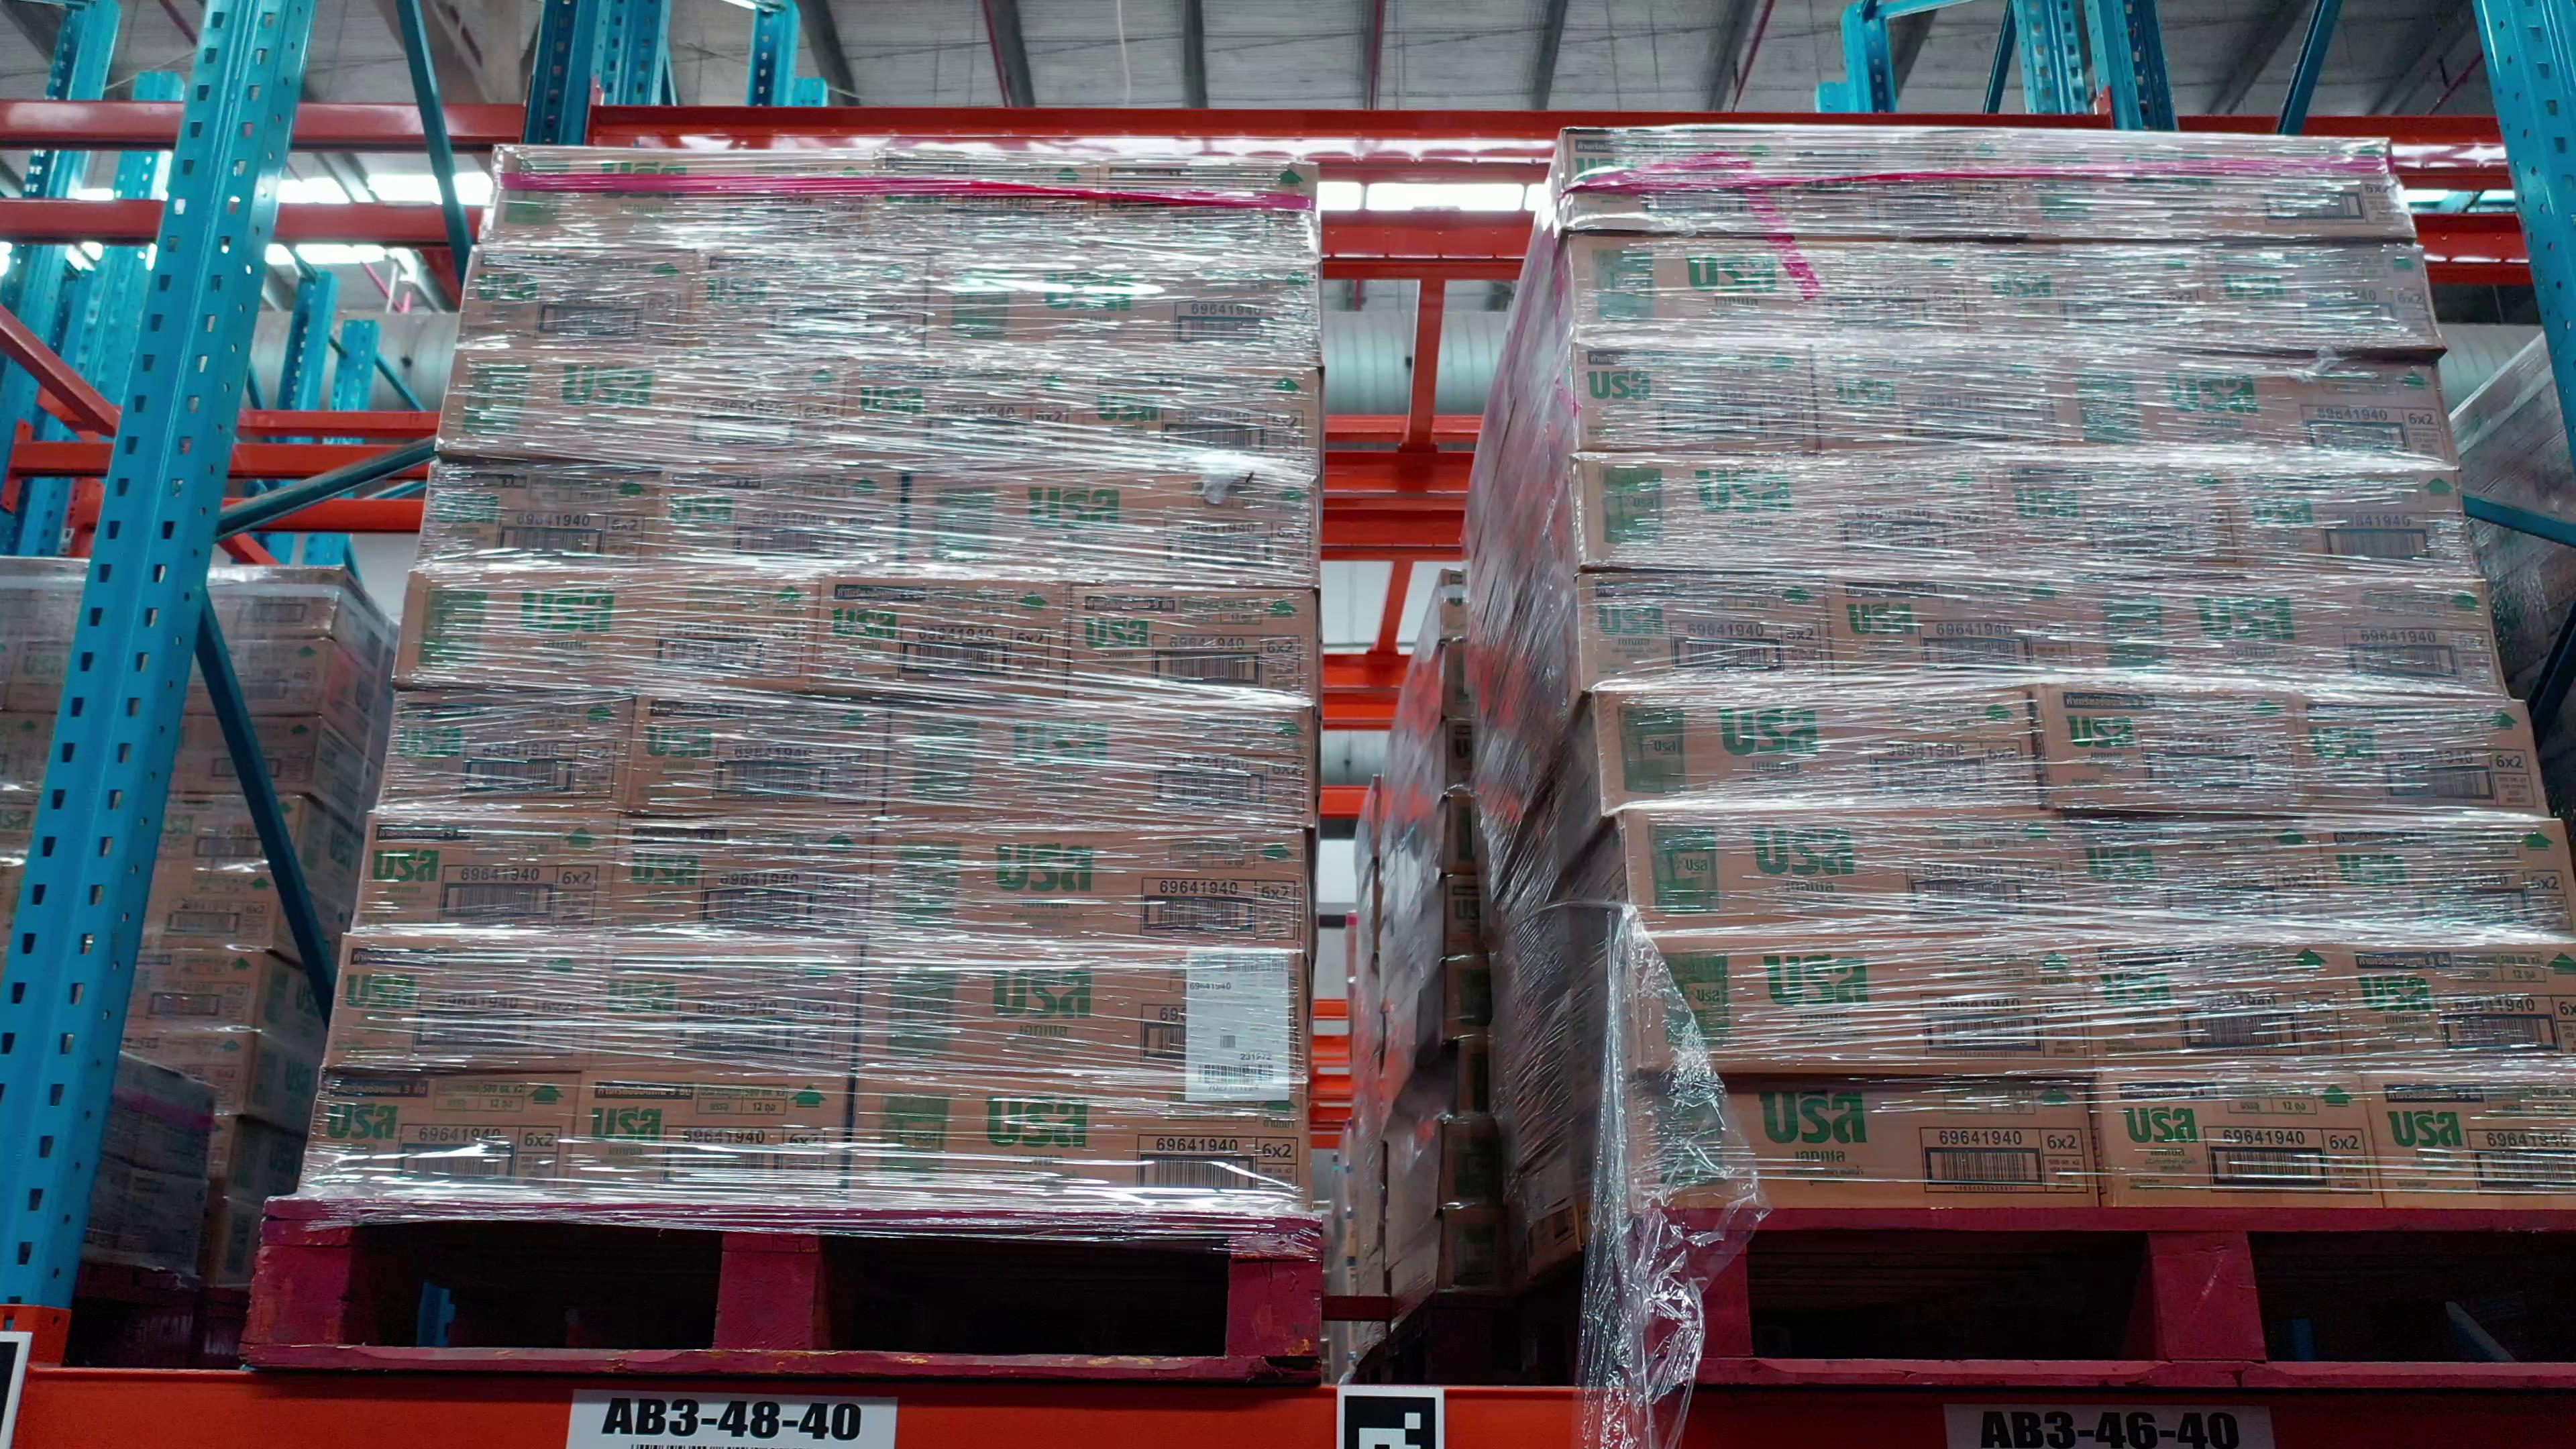-: (847, 1077, 1311, 1221), (1637, 934, 2088, 1076), (853, 948, 1307, 1085), (1637, 1076, 2100, 1207), (1626, 805, 2077, 938), (881, 694, 1311, 830), (1596, 686, 2036, 819), (867, 821, 1307, 952), (393, 563, 821, 695), (2077, 570, 2505, 702), (433, 347, 853, 474), (1578, 451, 2001, 568), (2052, 350, 2457, 469), (904, 472, 1316, 586), (2006, 129, 2417, 241), (1569, 237, 1985, 347), (485, 143, 885, 255), (929, 253, 1322, 366), (2082, 932, 2362, 1077), (324, 931, 603, 1074), (2098, 1074, 2388, 1212), (573, 1069, 855, 1210), (297, 1069, 584, 1207), (591, 934, 863, 1079), (2035, 679, 2314, 819), (2061, 810, 2341, 939), (609, 814, 872, 948), (814, 566, 1070, 702), (2291, 692, 2553, 824), (2316, 814, 2576, 947), (373, 688, 637, 812), (354, 812, 621, 934), (1824, 568, 2086, 692), (1065, 582, 1316, 709), (625, 694, 886, 816), (2348, 941, 2576, 1077), (1994, 451, 2240, 577), (2222, 458, 2482, 577), (1576, 573, 1833, 692), (1079, 357, 1316, 481), (2365, 1069, 2576, 1207), (846, 357, 1085, 478), (1969, 237, 2222, 350), (421, 455, 667, 570), (458, 244, 704, 354), (1576, 341, 1821, 451), (1559, 127, 1798, 239), (1806, 345, 2056, 451), (1787, 124, 2017, 239), (2203, 241, 2443, 350), (694, 248, 932, 357), (660, 465, 906, 568), (881, 145, 1102, 255), (1100, 150, 1316, 260)
